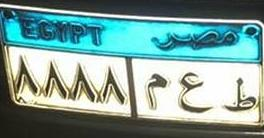8: (12, 53, 40, 100), (69, 61, 96, 104), (41, 59, 68, 102), (100, 66, 126, 109)
Taa: (222, 76, 257, 118)
ain: (174, 70, 215, 117)
meem: (143, 69, 170, 113)
